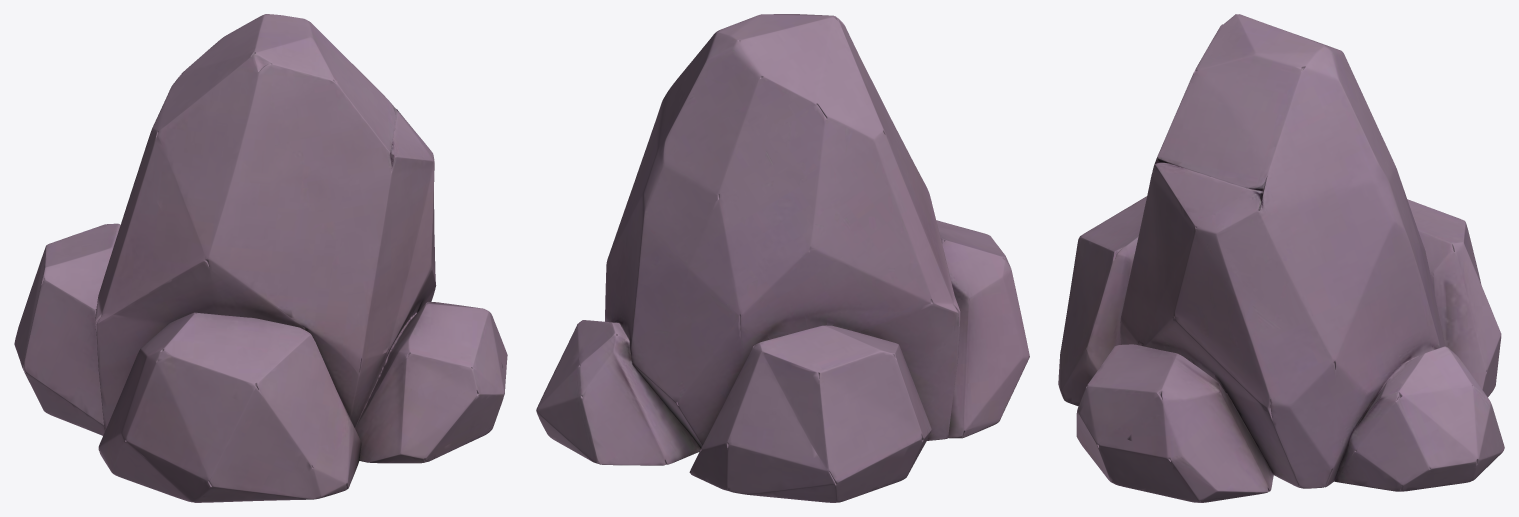
Rendered from purple_rocks.glb.
The picture shows the model from 3 angles, left to right: view 1: azimuth 30°, elevation 25°; view 2: azimuth 150°, elevation 25°; view 3: azimuth 270°, elevation 25°; orthographic projection.
Visible parts, largest first — view 1: node_0; view 2: node_0; view 3: node_0.
Part boxes in pixels (x1,y1,x2,y2): node_0: (14, 14, 507, 502); node_0: (536, 14, 1029, 502); node_0: (1058, 14, 1504, 502).
Size of the model in its own units: 0.8139 by 0.7695 by 0.8107.
Materials: 1 (1 with a texture image).
